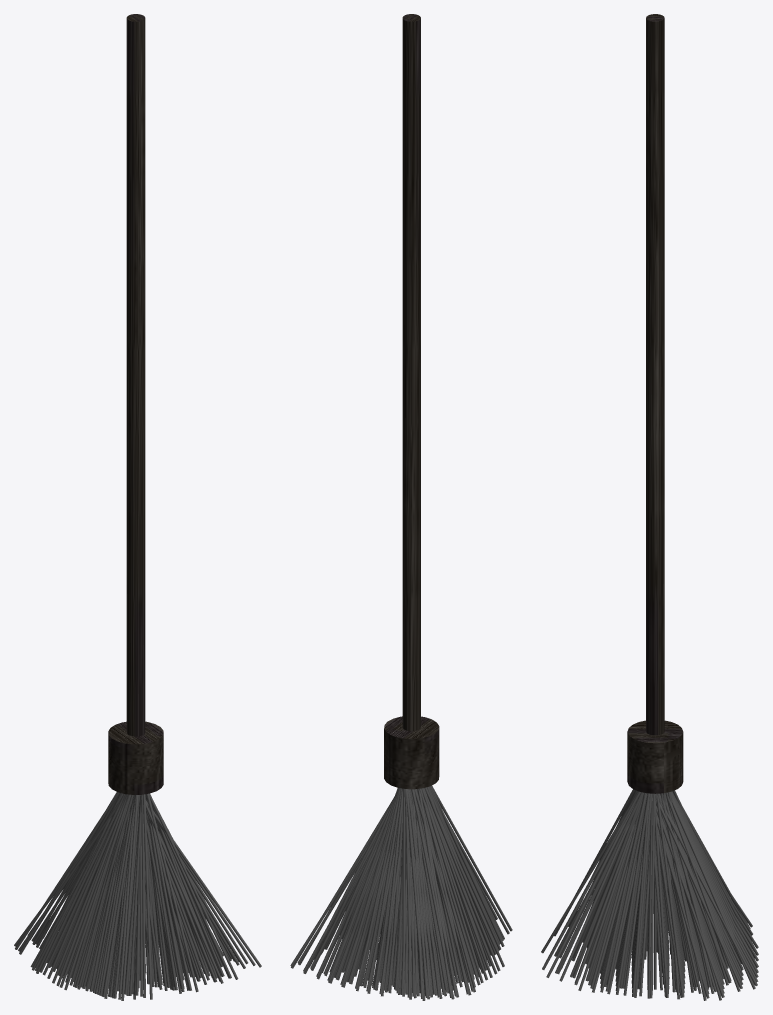
Rendered from TheSweeper.fbx.
3 renders of one model, left to right at view 1: azimuth 30°, elevation 25°; view 2: azimuth 150°, elevation 25°; view 3: azimuth 270°, elevation 25°, orthographic.
Visible parts, largest first — view 1: pCylinder301; view 2: pCylinder301; view 3: pCylinder301.
Boxes of the visible parts, <box> form: pCylinder301: <box>14,14,261,1000</box>; pCylinder301: <box>290,14,512,1000</box>; pCylinder301: <box>541,14,758,1000</box>.
Bounding box in the file's own units: 1.88 × 11 × 2.27.
